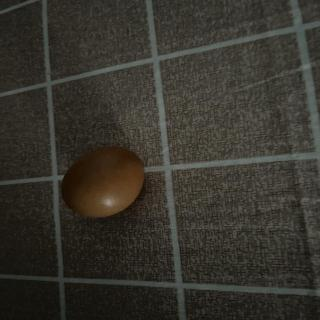Telur: (57, 144, 154, 222)
